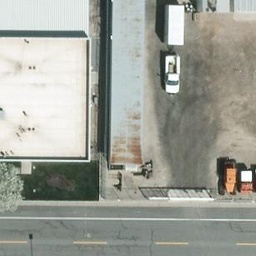car: (162, 55, 182, 94)
